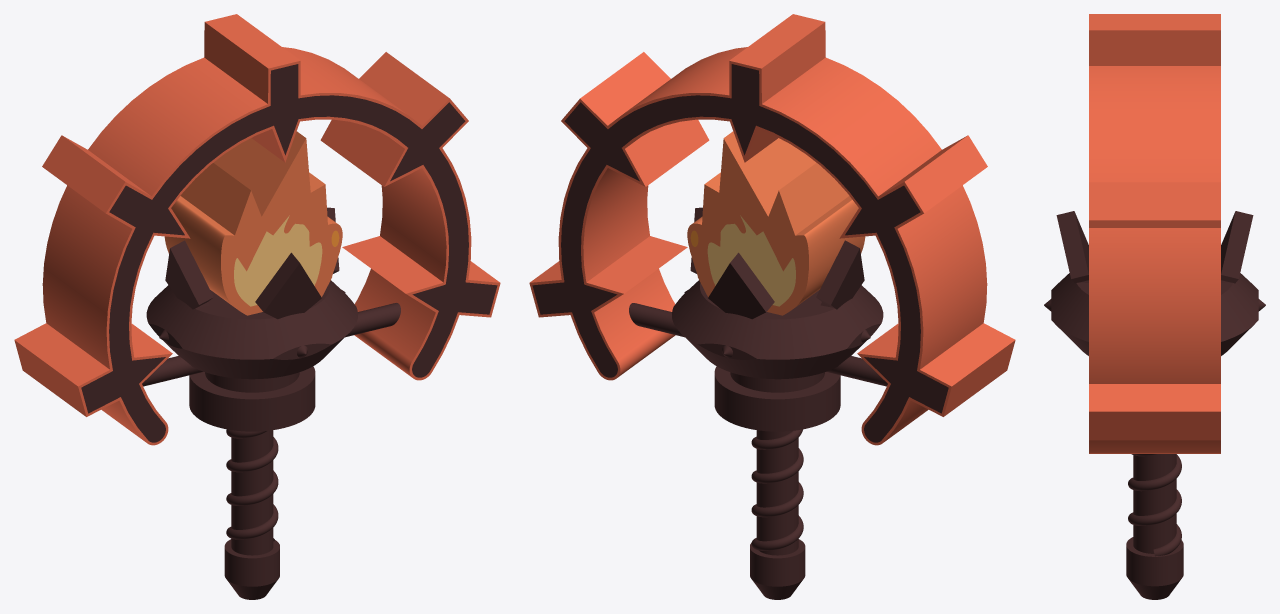
File: Torch.gltf
The picture shows the model from 3 angles, left to right: view 1: azimuth 30°, elevation 25°; view 2: azimuth 150°, elevation 25°; view 3: azimuth 270°, elevation 25°; orthographic projection. The views are drawn at different scales.
Visible parts, largest first — view 1: mesh200_meshnode_200, mesh81_meshnode_81, mesh85_meshnode_85, mesh4_meshnode_4, mesh210_meshnode_210, mesh78_meshnode_78, mesh102_meshnode_102, mesh44_meshnode_44, mesh5_meshnode_5, mesh244_meshnode_244, mesh105_meshnode_105, mesh219_meshnode_219 (+24 smaller); view 2: mesh161_meshnode_161, mesh81_meshnode_81, mesh85_meshnode_85, mesh4_meshnode_4, mesh211_meshnode_211, mesh117_meshnode_117, mesh102_meshnode_102, mesh44_meshnode_44, mesh5_meshnode_5, mesh235_meshnode_235, mesh105_meshnode_105, mesh219_meshnode_219 (+24 smaller); view 3: mesh111_meshnode_111, mesh116_meshnode_116, mesh113_meshnode_113, mesh114_meshnode_114, mesh109_meshnode_109, mesh4_meshnode_4, mesh110_meshnode_110, mesh5_meshnode_5, mesh79_meshnode_79, mesh41_meshnode_41, mesh107_meshnode_107, mesh63_meshnode_63 (+5 smaller).
Boxes of the visible parts, x1,y1,x2,y2 form: mesh200_meshnode_200: [81, 64, 497, 442]; mesh81_meshnode_81: [88, 57, 267, 196]; mesh85_meshnode_85: [42, 185, 132, 369]; mesh4_meshnode_4: [146, 280, 357, 359]; mesh210_meshnode_210: [221, 139, 342, 315]; mesh78_meshnode_78: [78, 61, 500, 445]; mesh102_meshnode_102: [380, 168, 446, 282]; mesh44_meshnode_44: [189, 375, 315, 431]; mesh5_meshnode_5: [231, 430, 273, 555]; mesh244_meshnode_244: [234, 215, 322, 306]; mesh105_meshnode_105: [354, 268, 435, 360]; mesh219_meshnode_219: [213, 131, 306, 216]; mesh161_meshnode_161: [532, 64, 948, 442]; mesh81_meshnode_81: [762, 57, 941, 196]; mesh85_meshnode_85: [897, 185, 987, 369]; mesh4_meshnode_4: [672, 280, 883, 359]; mesh211_meshnode_211: [687, 139, 808, 315]; mesh117_meshnode_117: [529, 61, 951, 445]; mesh102_meshnode_102: [583, 168, 649, 282]; mesh44_meshnode_44: [714, 375, 840, 431]; mesh5_meshnode_5: [756, 430, 798, 555]; mesh235_meshnode_235: [707, 215, 795, 306]; mesh105_meshnode_105: [594, 268, 675, 360]; mesh219_meshnode_219: [723, 131, 816, 216]; mesh111_meshnode_111: [1089, 228, 1220, 383]; mesh116_meshnode_116: [1089, 66, 1220, 182]; mesh113_meshnode_113: [1089, 182, 1220, 220]; mesh114_meshnode_114: [1089, 30, 1220, 65]; mesh109_meshnode_109: [1089, 411, 1220, 440]; mesh4_meshnode_4: [1051, 273, 1258, 341]; mesh110_meshnode_110: [1089, 384, 1220, 411]; mesh5_meshnode_5: [1133, 454, 1176, 553]; mesh79_meshnode_79: [1089, 14, 1220, 30]; mesh41_meshnode_41: [1126, 546, 1183, 586]; mesh107_meshnode_107: [1089, 440, 1220, 452]; mesh63_meshnode_63: [1128, 454, 1181, 556].
Bounding box in the file's own units: 0.0432 × 0.054 × 0.019.
